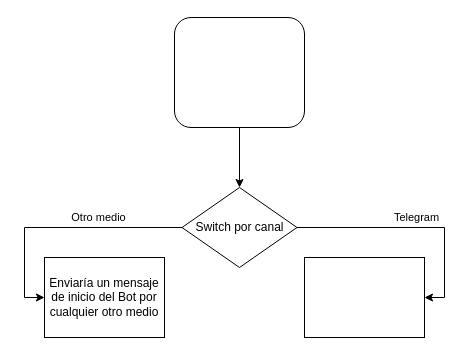
This 470x355 diagram has some shape labels left out. The shapes that lost their labels are listed below. From the top down, each one's centre as x and y in pixels, then its label:
At [239,72]: "Execute Workflow Trigger Inicia el flujo bot, funciona como el botón de inicio".
At [364,297]: "Telegram - Envía un mensaje de inicialización al telegram".
